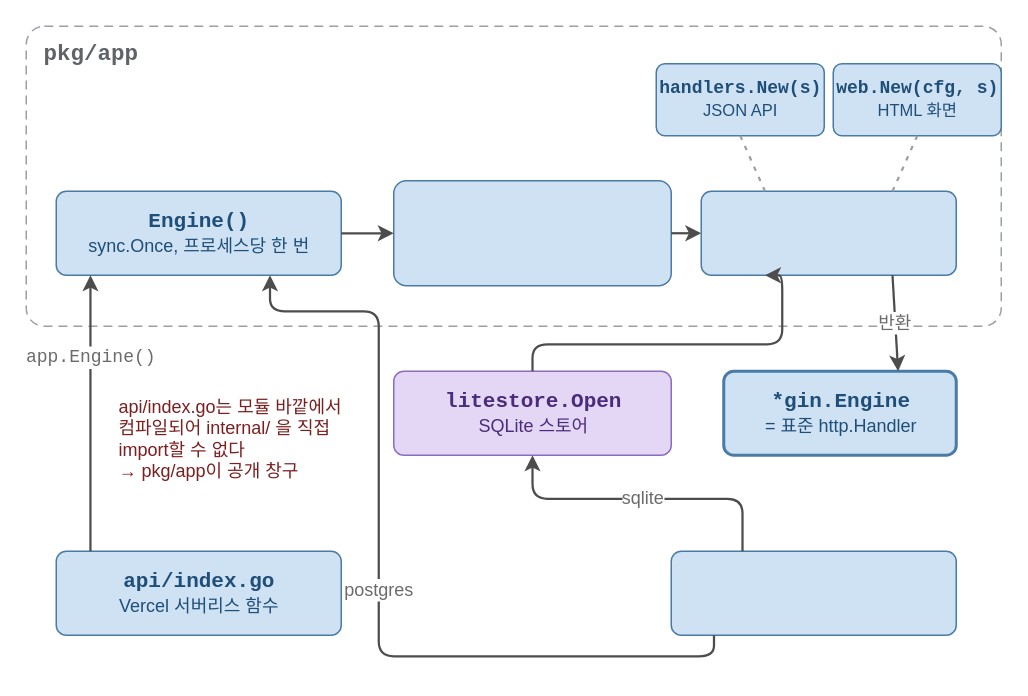
Some shapes in this 1028 by 696 pixel diagram are drawn without their labels. Here are the shapes that lost their labels. From the top down, the centre of each, then its label:
the point at 531,232: build() config.Load → db.Pool → pgstore.New
the point at 828,232: New(cfg, s) 라우터 조립
the point at 813,592: cmd/server/main.go 로컬 상주 서버
